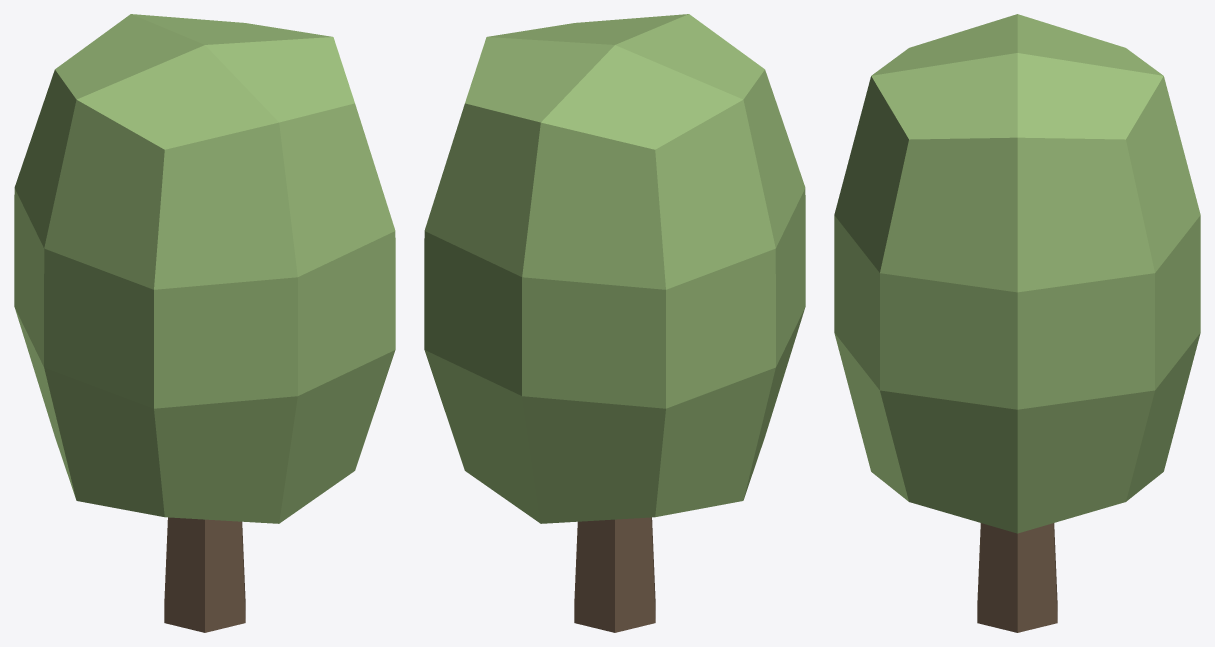
Rendered from Tree 09.fbx.
The picture shows the model from 3 angles, left to right: view 1: azimuth 30°, elevation 25°; view 2: azimuth 150°, elevation 25°; view 3: azimuth 270°, elevation 25°; orthographic projection.
Parts seen in each view (by area): view 1: pCylinder368; view 2: pCylinder368; view 3: pCylinder368.
Part boxes in pixels (left/top/right/bottom): pCylinder368: left=14, top=14, right=395, bottom=632; pCylinder368: left=424, top=14, right=805, bottom=632; pCylinder368: left=834, top=14, right=1200, bottom=632.
Size of the model in its own units: 1.11 by 1.87 by 1.11.
